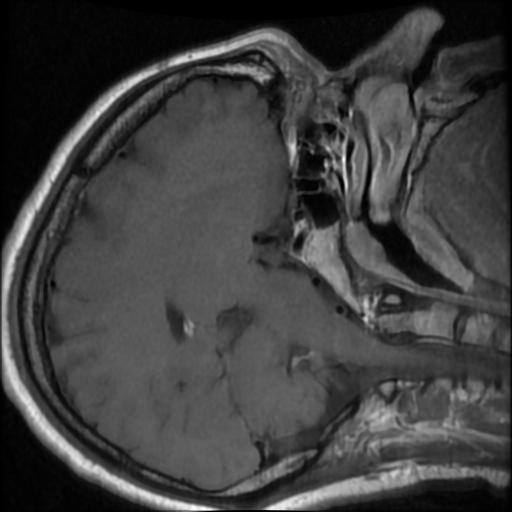pituitary tumour: (290, 220, 354, 303)
